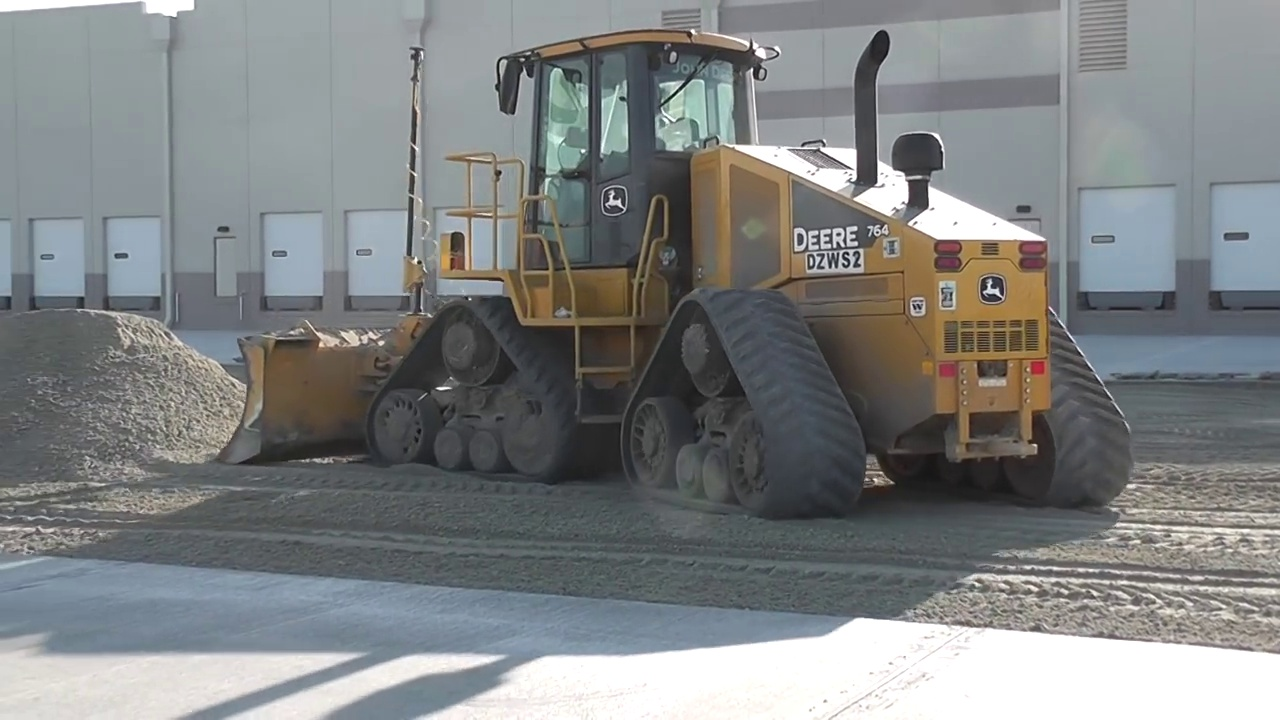bulldozer: (228, 26, 1134, 513)
